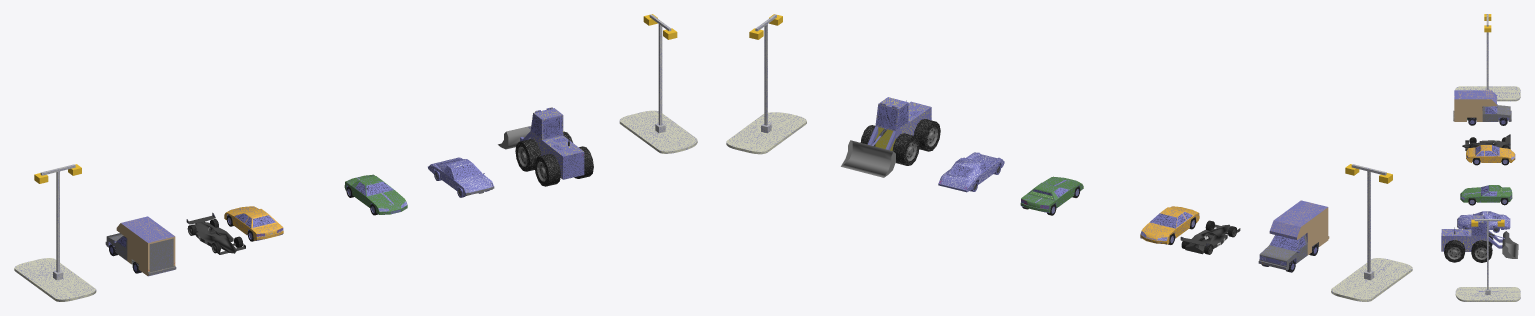
File: VerticalParking2.fbx
The picture shows the model from 3 angles, left to right: view 1: azimuth 30°, elevation 25°; view 2: azimuth 150°, elevation 25°; view 3: azimuth 270°, elevation 25°; orthographic projection. The views are drawn at different scales.
Visible parts, largest first — view 1: ambulancia_1_1, fere1, planter1, Model, SUPER2_1, G_23_1, SUPER2_1_1, F1_1, Truck_Wheel_18_1, parking_lot_lamp1, Truck_Wheel_18_3, parking_lot_lamp2; view 2: fere1, ambulancia_1_1, planter1, Model, G_23_1, SUPER2_1_1, SUPER2_1, F1_1, Truck_Wheel_18_3, Truck_Wheel_18_1, parking_lot_lamp2, parking_lot_lamp1; view 3: ambulancia_1_1, fere1, Model, SUPER2_1, SUPER2_1_1, planter1, G_23_1, Truck_Wheel_18_2, Truck_Wheel_18_4, F1_1, parking_lot_lamp1, parking_lot_lamp2 (+1 smaller).
Boxes of the visible parts, left/top/right/bottom form: ambulancia_1_1: left=105, top=216, right=176, bottom=276; fere1: left=498, top=107, right=584, bottom=179; planter1: left=14, top=258, right=96, bottom=301; Model: left=619, top=110, right=697, bottom=153; SUPER2_1: left=344, top=174, right=407, bottom=214; G_23_1: left=428, top=157, right=494, bottom=196; SUPER2_1_1: left=224, top=206, right=283, bottom=240; F1_1: left=186, top=212, right=245, bottom=254; Truck_Wheel_18_1: left=534, top=154, right=560, bottom=186; parking_lot_lamp1: left=649, top=14, right=671, bottom=133; Truck_Wheel_18_3: left=515, top=139, right=541, bottom=171; parking_lot_lamp2: left=40, top=164, right=75, bottom=280; fere1: left=841, top=97, right=931, bottom=177; ambulancia_1_1: left=1258, top=200, right=1329, bottom=270; planter1: left=1331, top=258, right=1412, bottom=301; Model: left=726, top=112, right=806, bottom=154; G_23_1: left=938, top=152, right=1004, bottom=192; SUPER2_1_1: left=1140, top=206, right=1199, bottom=244; SUPER2_1: left=1020, top=176, right=1083, bottom=213; F1_1: left=1180, top=224, right=1240, bottom=254; Truck_Wheel_18_3: left=892, top=133, right=919, bottom=165; Truck_Wheel_18_1: left=913, top=119, right=940, bottom=151; parking_lot_lamp2: left=1351, top=164, right=1386, bottom=280; parking_lot_lamp1: left=755, top=14, right=776, bottom=133; ambulancia_1_1: left=1453, top=90, right=1511, bottom=121; fere1: left=1441, top=215, right=1518, bottom=258; Model: left=1455, top=287, right=1520, bottom=301; SUPER2_1: left=1460, top=185, right=1512, bottom=202; SUPER2_1_1: left=1466, top=145, right=1515, bottom=162; planter1: left=1455, top=86, right=1520, bottom=101; G_23_1: left=1457, top=211, right=1510, bottom=229; Truck_Wheel_18_2: left=1444, top=240, right=1465, bottom=262; Truck_Wheel_18_4: left=1471, top=240, right=1492, bottom=262; F1_1: left=1462, top=134, right=1510, bottom=150; parking_lot_lamp1: left=1474, top=219, right=1500, bottom=294; parking_lot_lamp2: left=1485, top=14, right=1490, bottom=90.
Size of the model in its own units: 43.89 by 7.26 by 6.88.
